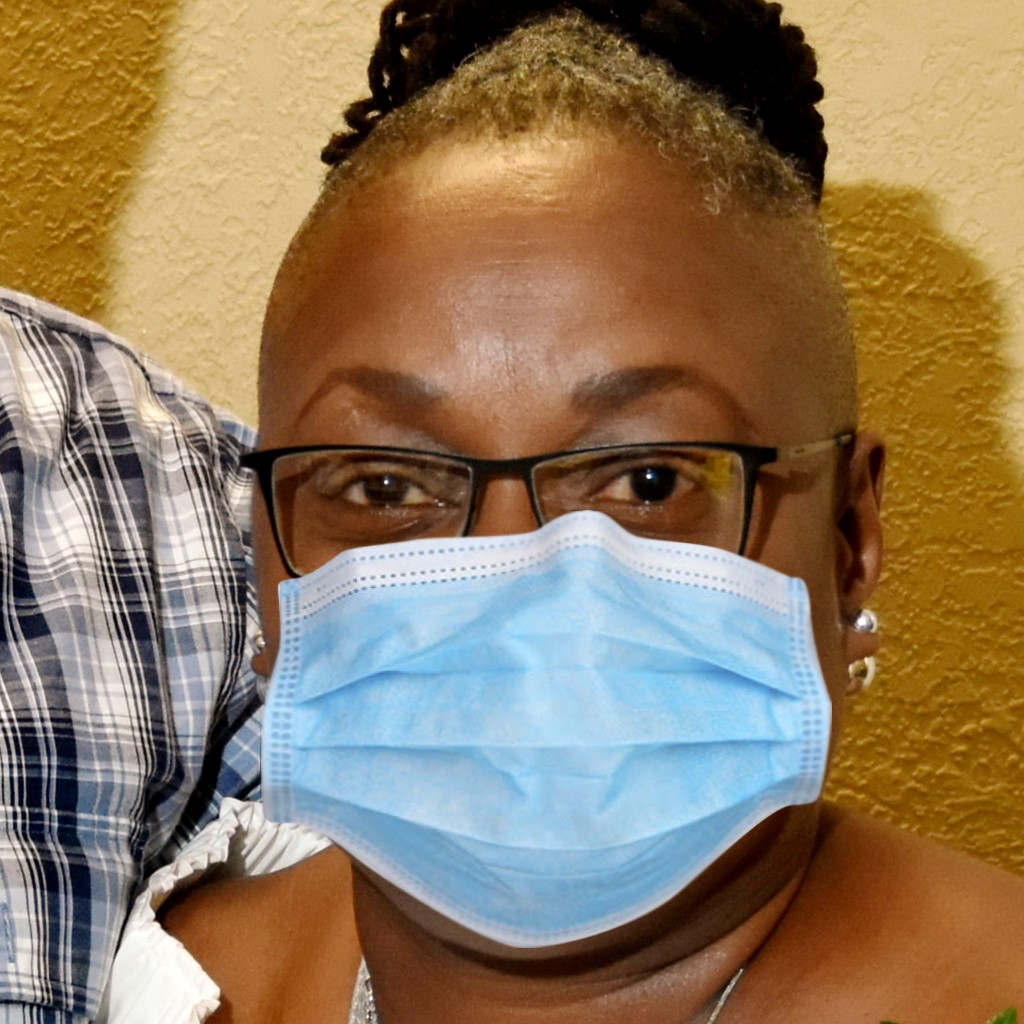con_mascara: (254, 98, 855, 933)
